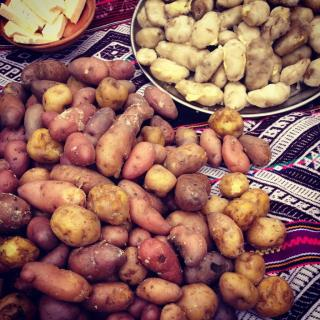Potato: (0, 57, 293, 319), (136, 0, 320, 111), (221, 271, 261, 312), (123, 142, 157, 180)
